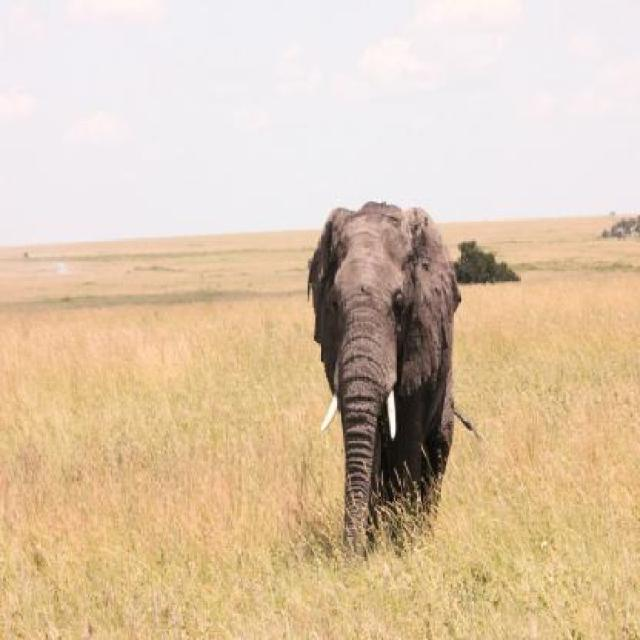Elephant: (305, 200, 486, 565)
